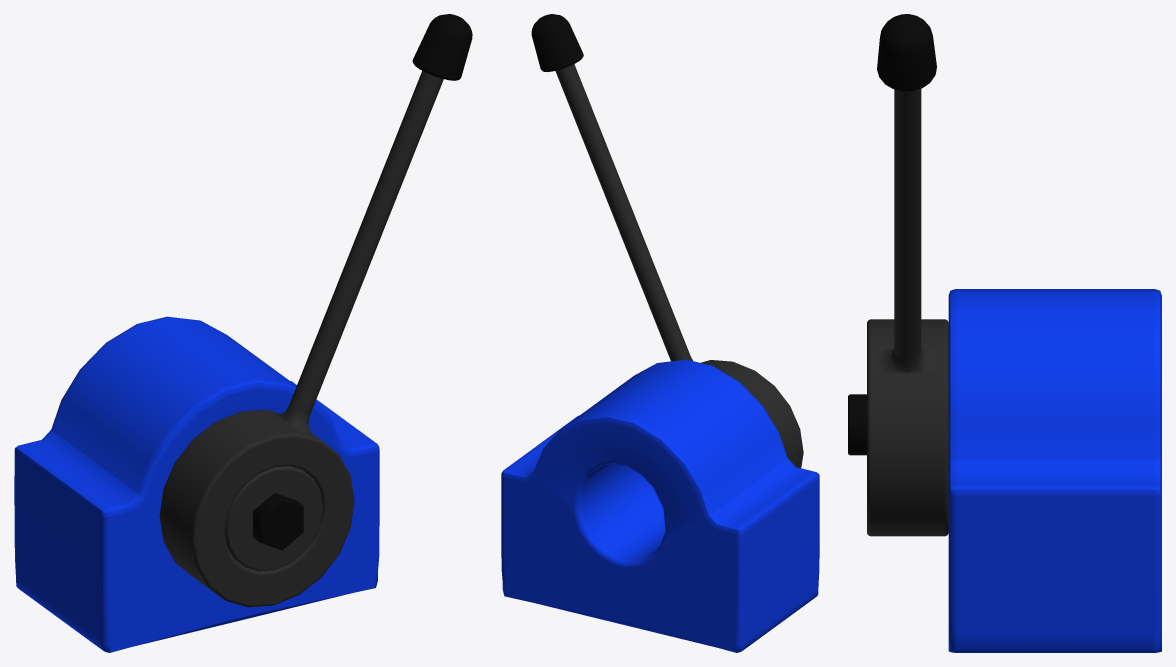
The model's file is Lever_v1.FBX.
The picture shows the model from 3 angles, left to right: view 1: azimuth 30°, elevation 25°; view 2: azimuth 150°, elevation 25°; view 3: azimuth 270°, elevation 25°; orthographic projection. The views are drawn at different scales.
Visible parts, largest first — view 1: Lever, Sphere002, Cylinder002; view 2: Lever, Sphere002, Cylinder002; view 3: Lever, Sphere002, Cylinder002.
Part boxes in pixels (x1,y1,x2,y2): Lever: (14,316,379,652); Sphere002: (159,71,443,607); Cylinder002: (253,14,472,550); Lever: (501,359,819,652); Sphere002: (555,64,803,468); Cylinder002: (531,14,583,71); Lever: (948,289,1161,652); Sphere002: (867,89,948,536); Cylinder002: (848,14,936,455).
Size of the model in its own units: 17.72 by 27.96 by 11.92.
